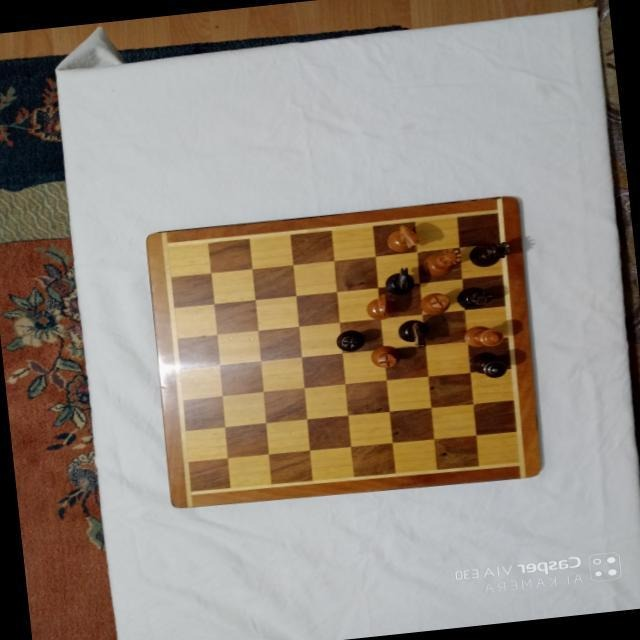black-king: (468, 348, 507, 379)
black-knight: (395, 317, 428, 349), (384, 264, 416, 295)
black-queen: (468, 239, 512, 267)
black-rook: (455, 283, 493, 309), (334, 327, 366, 352)
white-king: (463, 322, 505, 348)
white-knight: (384, 221, 421, 252), (364, 291, 398, 320)
white-queen: (420, 245, 464, 277)
white-rook: (417, 289, 451, 315), (369, 343, 399, 369)
